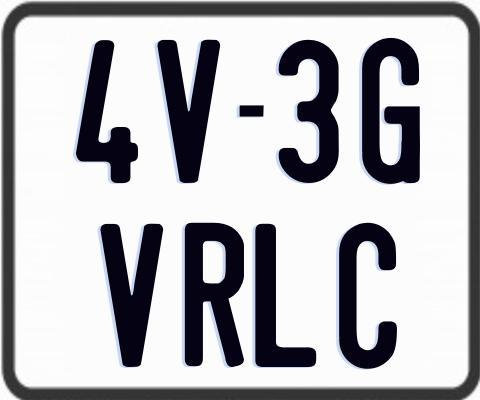3: (277, 38, 342, 185)
4: (75, 38, 140, 185)
C: (338, 220, 400, 371)
G: (362, 38, 424, 188)
L: (252, 221, 315, 368)
R: (183, 223, 243, 369)
V: (156, 37, 224, 186), (98, 222, 163, 371)
